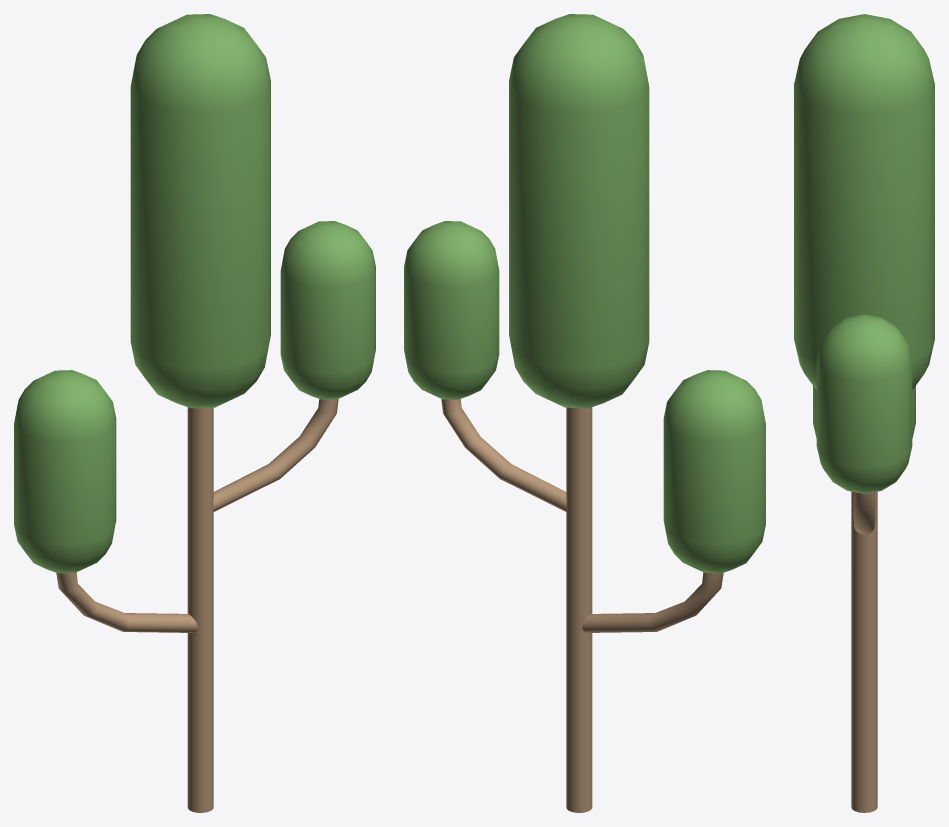
The model's file is tree02.FBX.
The picture shows the model from 3 angles, left to right: view 1: azimuth 30°, elevation 25°; view 2: azimuth 150°, elevation 25°; view 3: azimuth 270°, elevation 25°; orthographic projection.
Parts seen in each view (by area): view 1: obj_36; view 2: obj_36; view 3: obj_36.
Part boxes in pixels (bbox=[...]): obj_36: bbox=[14, 14, 375, 812]; obj_36: bbox=[404, 14, 765, 812]; obj_36: bbox=[794, 14, 934, 812].
Size of the model in its own units: 79.23 by 171 by 27.74.
